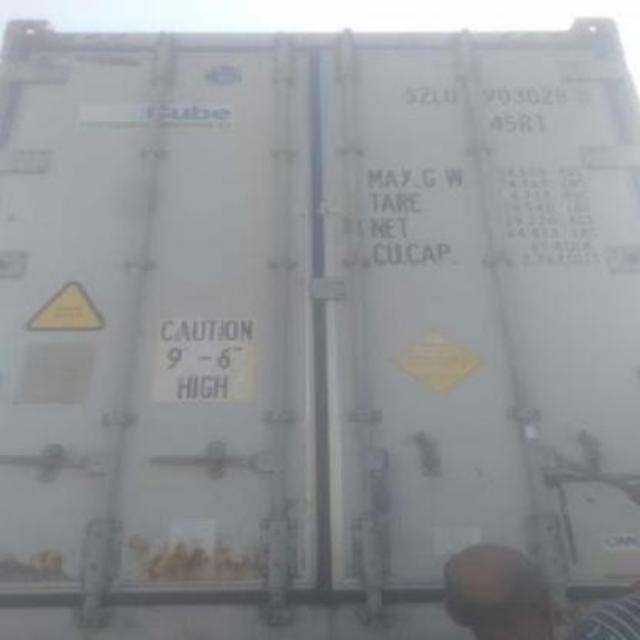0: (524, 79, 538, 109), (576, 84, 594, 106), (494, 84, 510, 105)
2: (538, 82, 554, 106)
3: (510, 80, 526, 106)
8: (552, 79, 572, 105)
9: (480, 82, 496, 105)
L: (430, 80, 442, 108)
S: (400, 78, 416, 108)
U: (442, 77, 462, 109)
Z: (416, 80, 432, 108)
